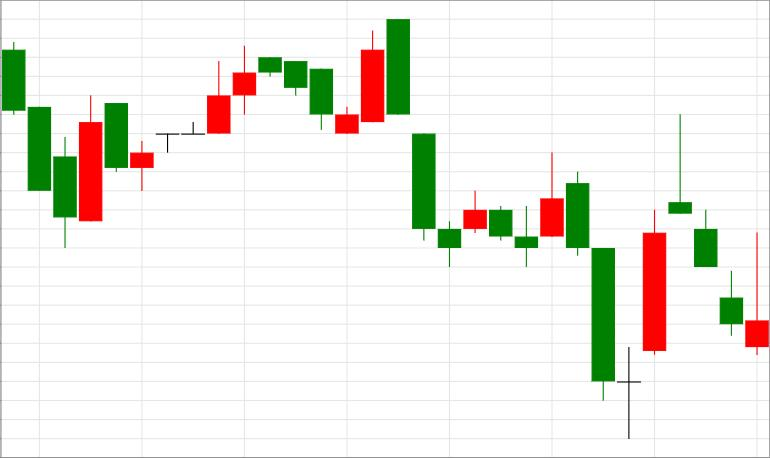morning_star_rise: (387, 19, 666, 439)
